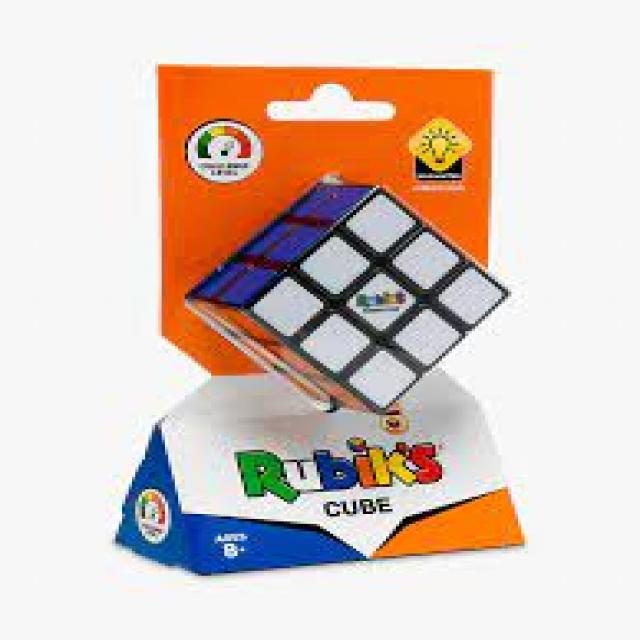Rub: (197, 176, 518, 420)
